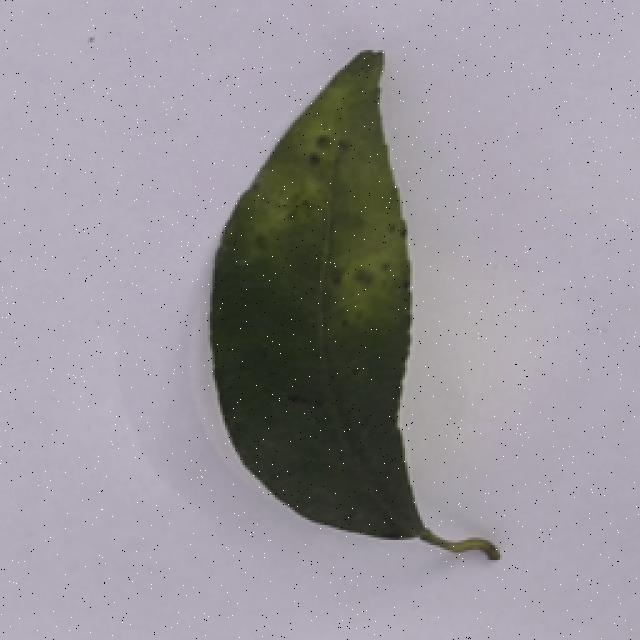blackspot: (198, 45, 514, 578)
